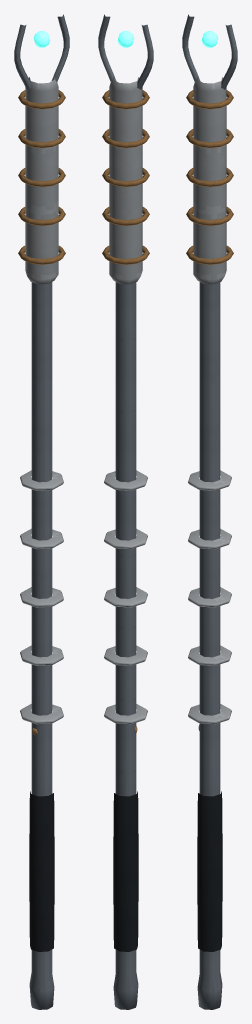
Rendered from channeling-rod.lod2.glb.
The picture shows the model from 3 angles, left to right: view 1: azimuth 30°, elevation 25°; view 2: azimuth 150°, elevation 25°; view 3: azimuth 330°, elevation 25°; orthographic projection.
Visible parts, largest first — view 1: alloy / machined anodized alloy, ceramic / ceramic composite panel, polymer / stippled polymer, bronze / cast bronze with patina, energy / emissive field channel; view 2: alloy / machined anodized alloy, ceramic / ceramic composite panel, polymer / stippled polymer, bronze / cast bronze with patina, energy / emissive field channel; view 3: alloy / machined anodized alloy, ceramic / ceramic composite panel, polymer / stippled polymer, bronze / cast bronze with patina, energy / emissive field channel.
Part boxes in pixels (x1=…): alloy / machined anodized alloy: x1=14, y1=14, x2=69, y2=1009; ceramic / ceramic composite panel: x1=20, y1=76, x2=63, y2=724; polymer / stippled polymer: x1=29, y1=791, x2=54, y2=951; bronze / cast bronze with patina: x1=18, y1=90, x2=65, y2=264; energy / emissive field channel: x1=33, y1=31, x2=50, y2=47; alloy / machined anodized alloy: x1=98, y1=14, x2=153, y2=1009; ceramic / ceramic composite panel: x1=104, y1=76, x2=147, y2=724; polymer / stippled polymer: x1=113, y1=791, x2=138, y2=951; bronze / cast bronze with patina: x1=102, y1=90, x2=149, y2=264; energy / emissive field channel: x1=117, y1=31, x2=134, y2=47; alloy / machined anodized alloy: x1=182, y1=14, x2=237, y2=1009; ceramic / ceramic composite panel: x1=188, y1=76, x2=231, y2=724; polymer / stippled polymer: x1=197, y1=791, x2=222, y2=951; bronze / cast bronze with patina: x1=186, y1=90, x2=233, y2=264; energy / emissive field channel: x1=201, y1=31, x2=218, y2=47.
Bounding box in the file's own units: 0.0896 × 1.52 × 0.067.
Materials: 6 (4 with a texture image).
